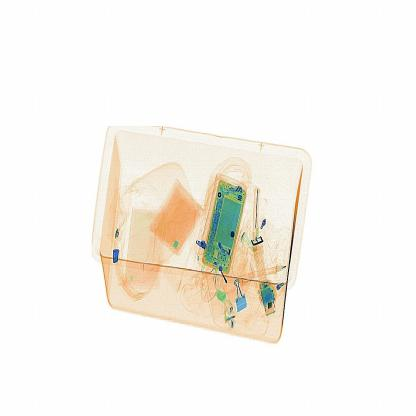pliers: (249, 182, 268, 254)
